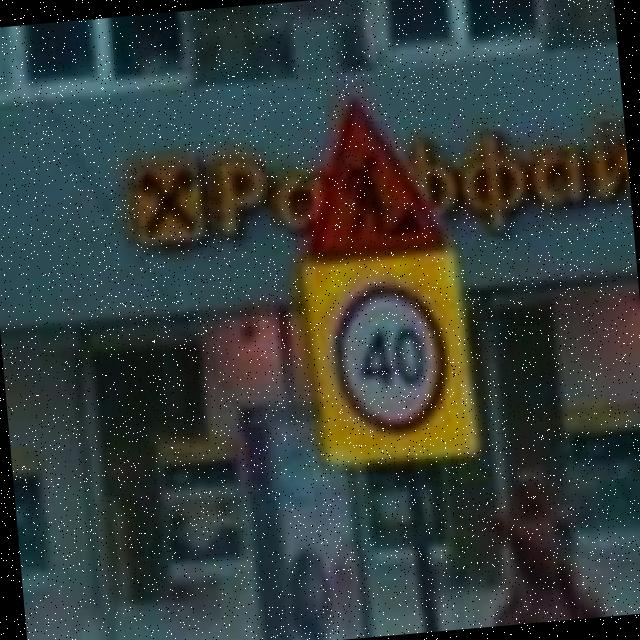Ograniczenie predkosci do 40: (328, 278, 456, 437)
